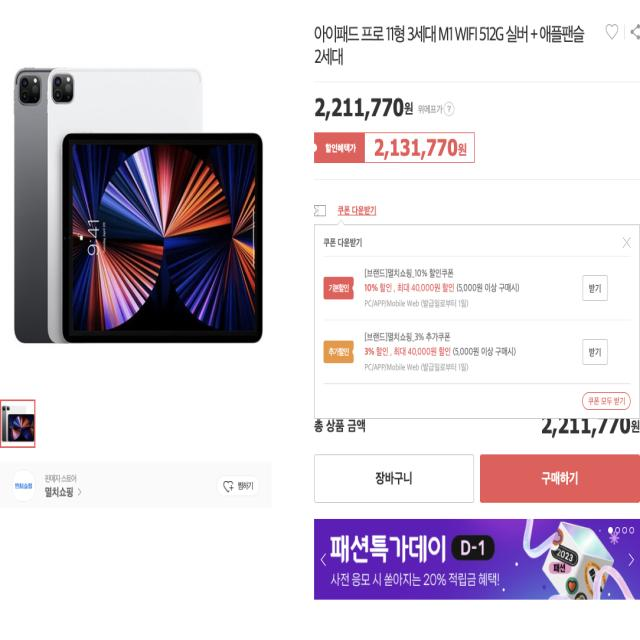product_discount_price: (371, 134, 468, 162)
product_name: (308, 20, 589, 67)
product_original_price: (313, 98, 416, 124)
